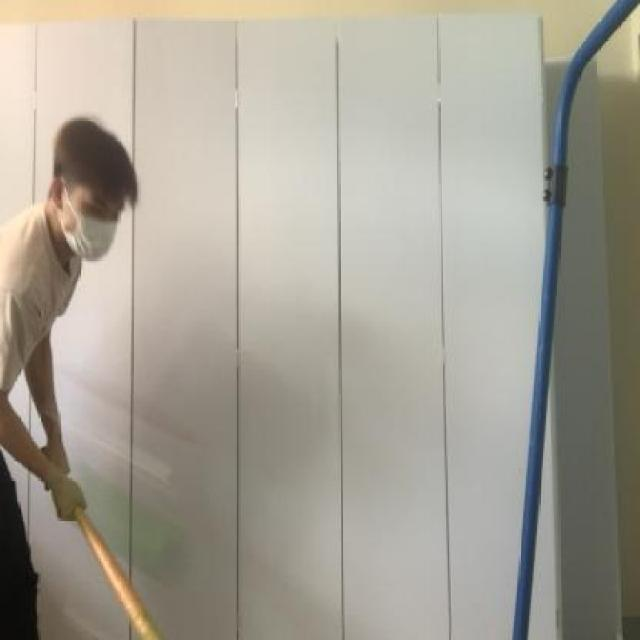baseball: (60, 460, 194, 591)
